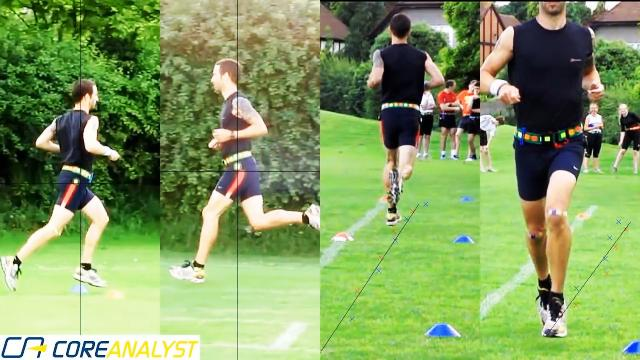berlari: (478, 4, 606, 344), (165, 53, 318, 285), (0, 75, 124, 302), (362, 6, 442, 228)
